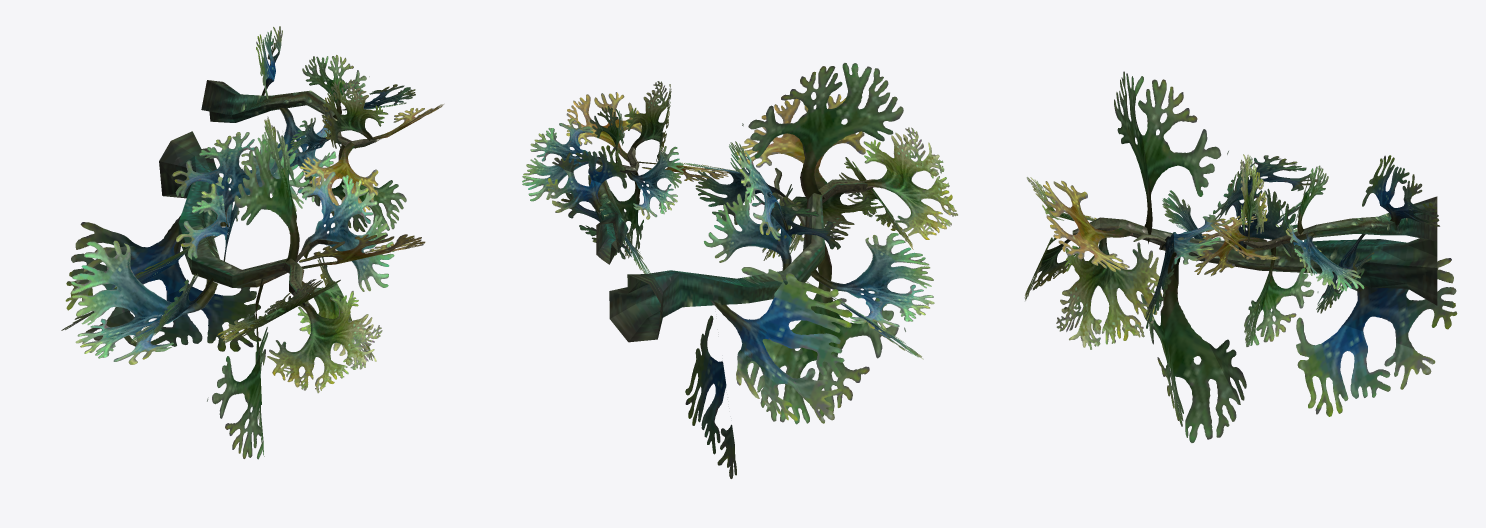
The model's file is huodong_fuben_417_zhiwu02.obj.
3 views of the same model, side by side, from view 1: azimuth 30°, elevation 25°; view 2: azimuth 150°, elevation 25°; view 3: azimuth 270°, elevation 25° (orthographic).
Visible parts, largest first — view 1: huodong_fuben_417_zhiwu02; view 2: huodong_fuben_417_zhiwu02; view 3: huodong_fuben_417_zhiwu02.
Part boxes in pixels (left/top/right/bottom): huodong_fuben_417_zhiwu02: left=61, top=26, right=443, bottom=459; huodong_fuben_417_zhiwu02: left=522, top=63, right=957, bottom=478; huodong_fuben_417_zhiwu02: left=1024, top=71, right=1457, bottom=442.
Bounding box in the file's own units: 86.02 × 85.58 × 74.99.
Materials: 1 (1 with a texture image).
